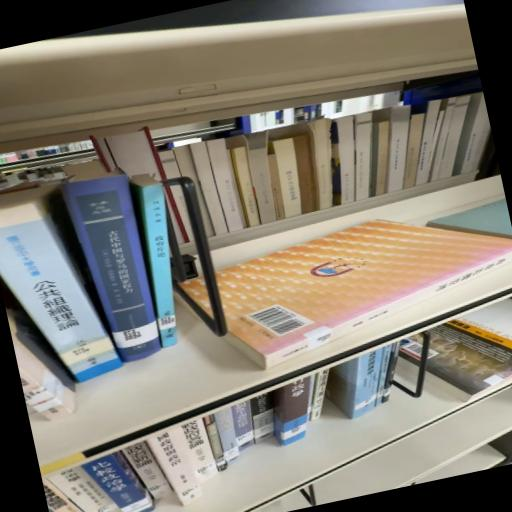flat: (215, 219, 512, 368), (426, 297, 512, 398), (400, 334, 423, 364)
